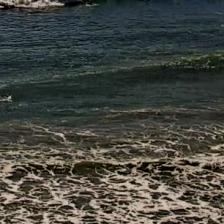surfer: (86, 2, 94, 6), (144, 0, 153, 2)
